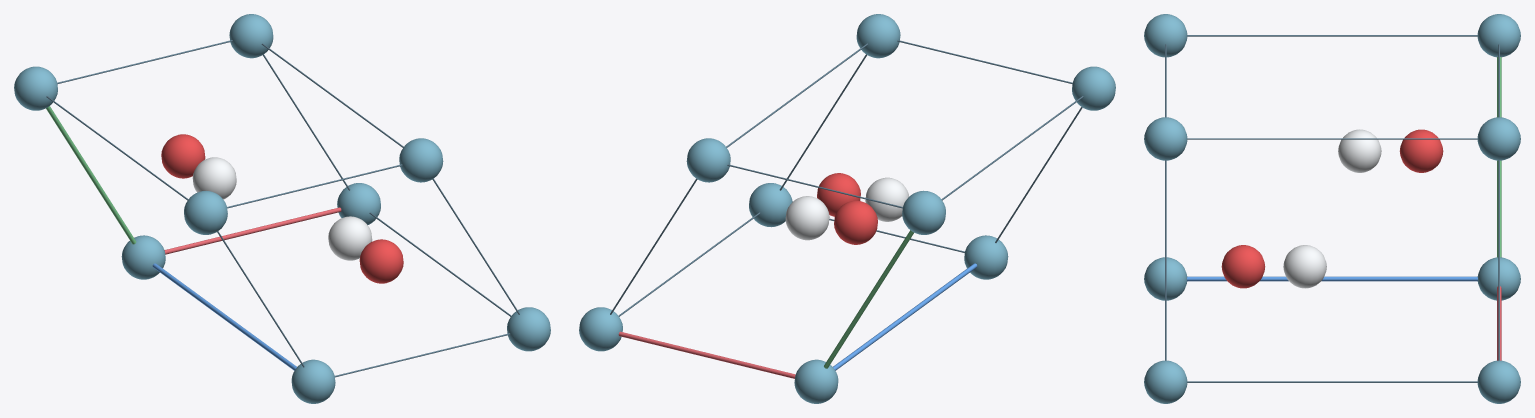
The model's file is chat-portlandite.glb.
The picture shows the model from 3 angles, left to right: view 1: azimuth 30°, elevation 25°; view 2: azimuth 150°, elevation 25°; view 3: azimuth 270°, elevation 25°; orthographic projection.
Parts seen in each view (by area): view 1: Ca · Ca · 1 (×8), Ô mạng và các trục a, b, c, O · O · 1 (×2), H · H · 1 (×2); view 2: Ca · Ca · 1 (×8), Ô mạng và các trục a, b, c, H · H · 1 (×2), O · O · 1 (×2); view 3: Ca · Ca · 1 (×8), Ô mạng và các trục a, b, c, O · O · 1 (×2), H · H · 1 (×2).
Part boxes in pixels (left/top/right/bottom): Ca · Ca · 1 (×8): left=14, top=14, right=550, bottom=403; Ô mạng và các trục a, b, c: left=46, top=40, right=519, bottom=377; O · O · 1 (×2): left=161, top=134, right=403, bottom=283; H · H · 1 (×2): left=192, top=157, right=372, bottom=260; Ca · Ca · 1 (×8): left=579, top=14, right=1115, bottom=403; Ô mạng và các trục a, b, c: left=610, top=40, right=1083, bottom=378; H · H · 1 (×2): left=785, top=177, right=908, bottom=240; O · O · 1 (×2): left=817, top=173, right=877, bottom=244; Ca · Ca · 1 (×8): left=1144, top=14, right=1520, bottom=403; Ô mạng và các trục a, b, c: left=1165, top=35, right=1501, bottom=382; O · O · 1 (×2): left=1221, top=129, right=1443, bottom=288; H · H · 1 (×2): left=1283, top=129, right=1381, bottom=288.
Bounding box in the file's own units: 6.03 × 3.75 × 5.54.
